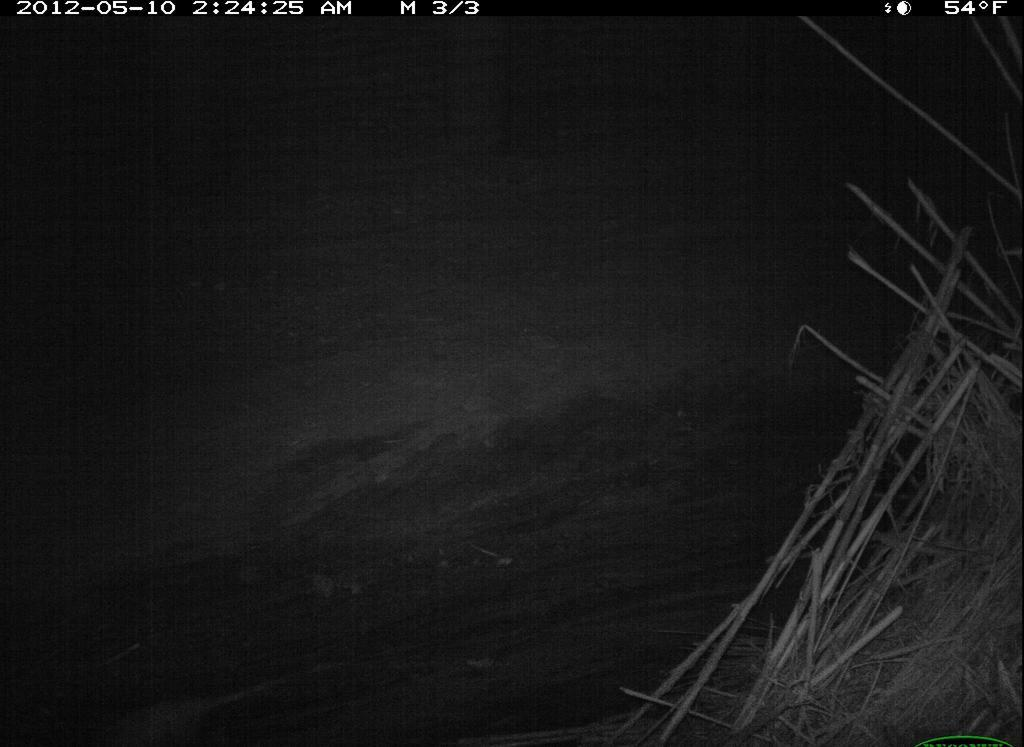opossum: (49, 665, 306, 747)
